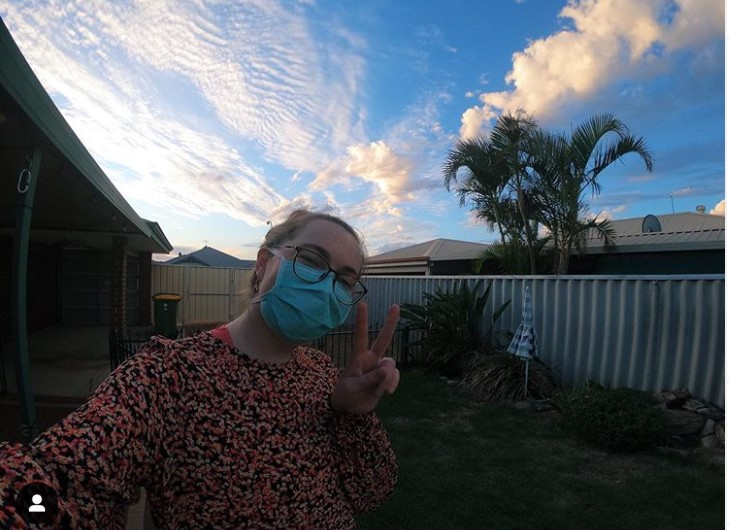face_with_mask: (258, 204, 371, 347)
